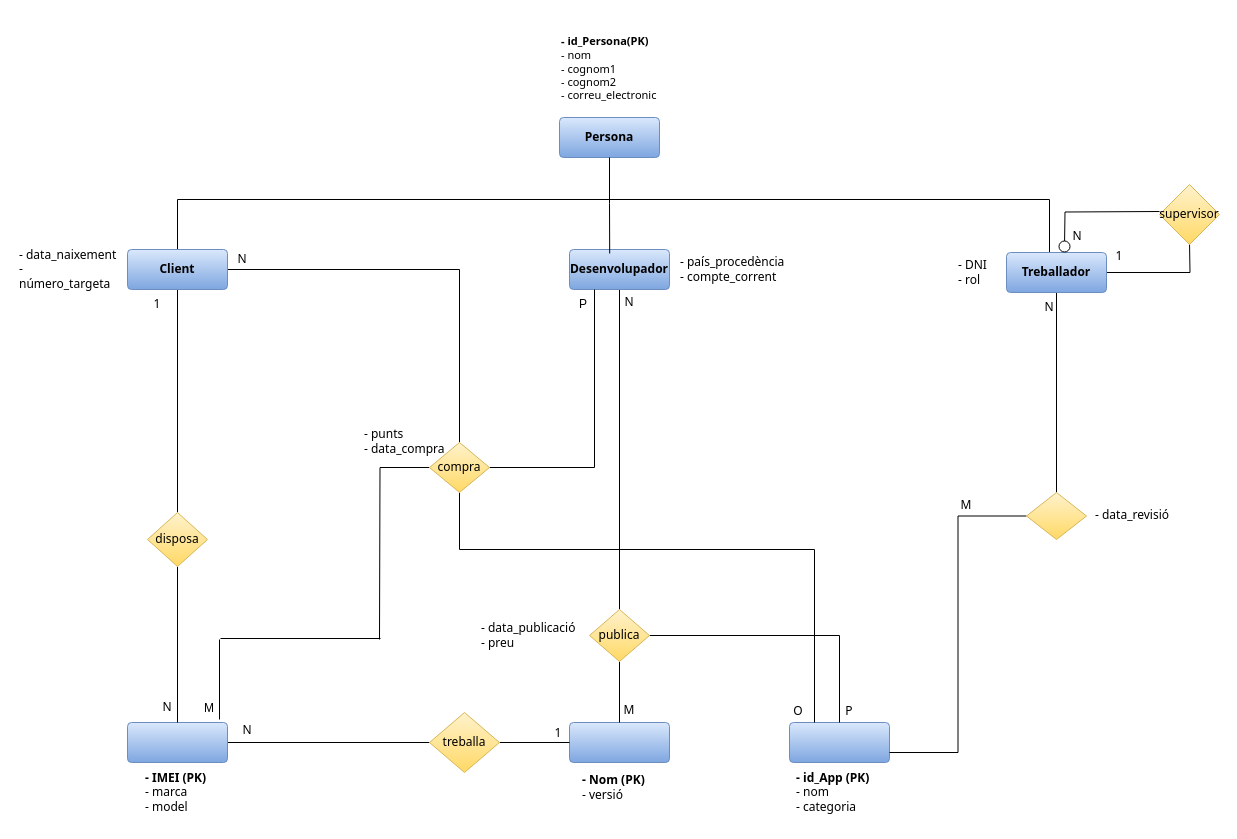
Some shapes in this 1237 by 839 pixel diagram are drawn without their labels. The shapes that lost their labels are listed below. From the top down, each one's box as (x1, y1, x2, y2) in pixels, then its label:
(1026, 492, 1086, 540): revisa
(126, 722, 228, 762): Dispositiu
(568, 722, 670, 762): Plataforma
(788, 722, 890, 762): Aplicació
